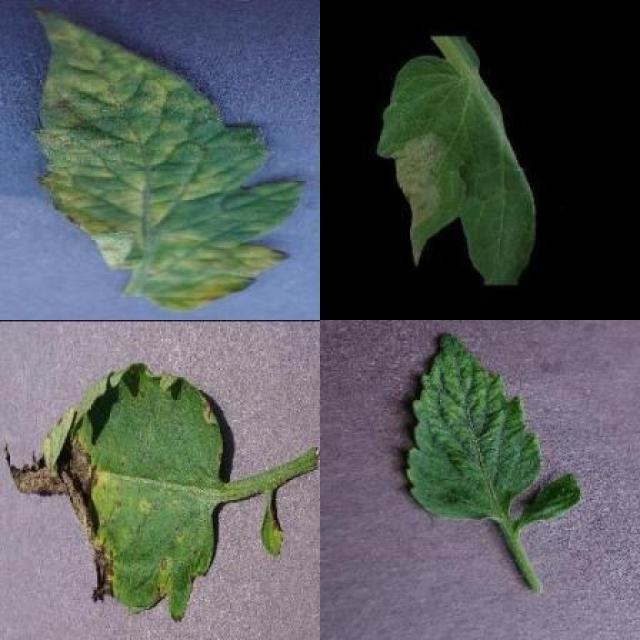Late Blight: (376, 51, 536, 286)
Leaf Mold: (36, 6, 307, 311)
Mosaic Virus: (407, 332, 542, 524)
Septoria: (5, 362, 225, 622)
